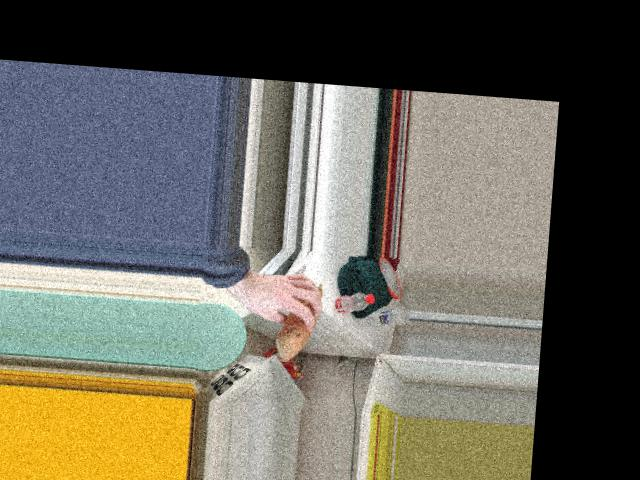sweet_potato: (282, 278, 322, 356)
